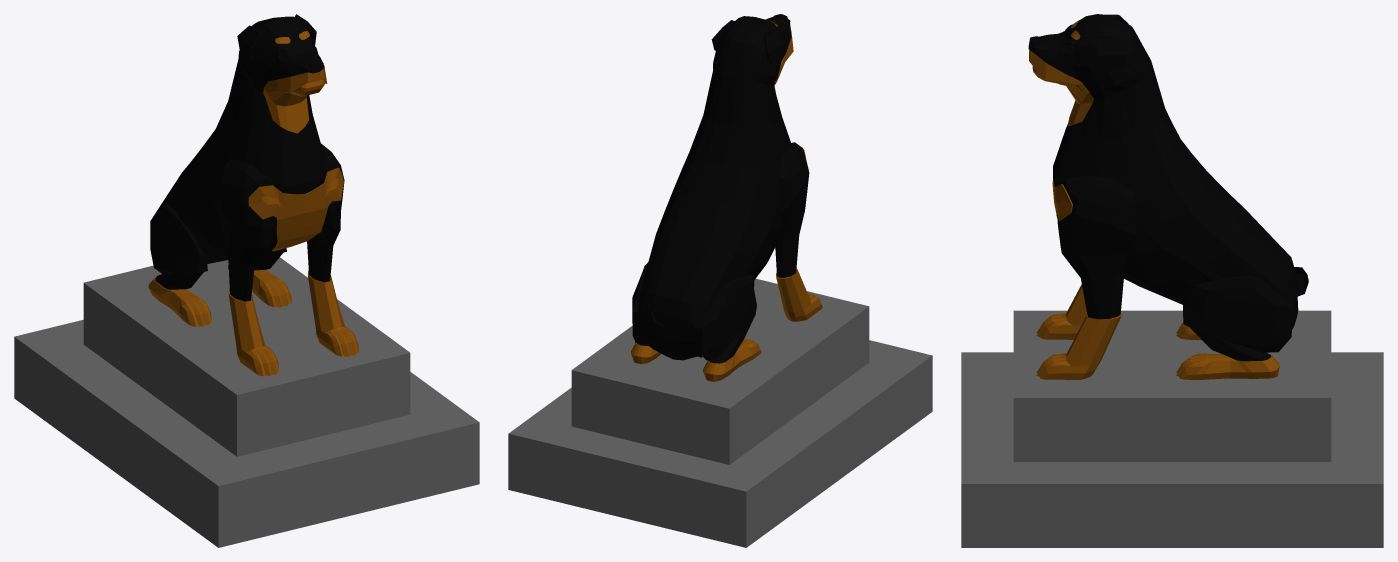
File: Rambo.gltf
3 views of the same model, side by side, from view 1: azimuth 30°, elevation 25°; view 2: azimuth 150°, elevation 25°; view 3: azimuth 270°, elevation 25° (orthographic). The views are drawn at different scales.
Visible parts, largest first — view 1: Icosphere.004; view 2: Icosphere.004; view 3: Icosphere.004.
Part boxes in pixels (x1,y1,x2,y2): Icosphere.004: (14, 14, 479, 547); Icosphere.004: (508, 14, 932, 547); Icosphere.004: (961, 14, 1383, 547).
Size of the model in its own units: 4.42 by 7.22 by 5.99.
